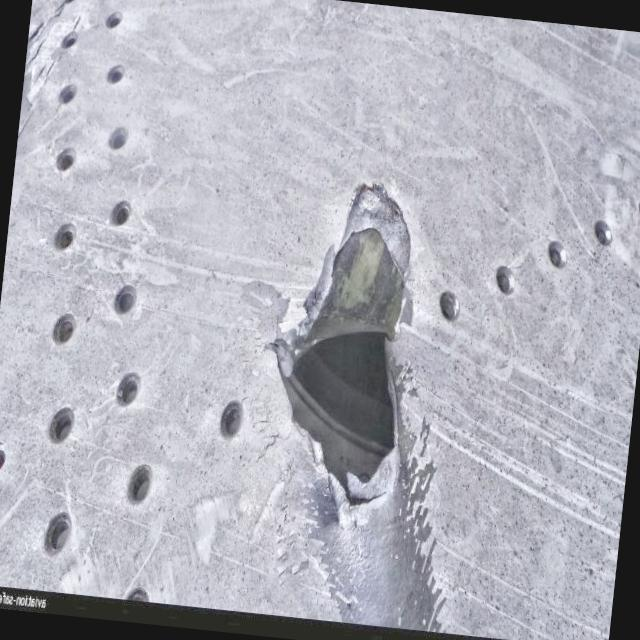crack: (242, 168, 434, 528), (279, 185, 407, 500)
dent: (276, 419, 431, 628)
